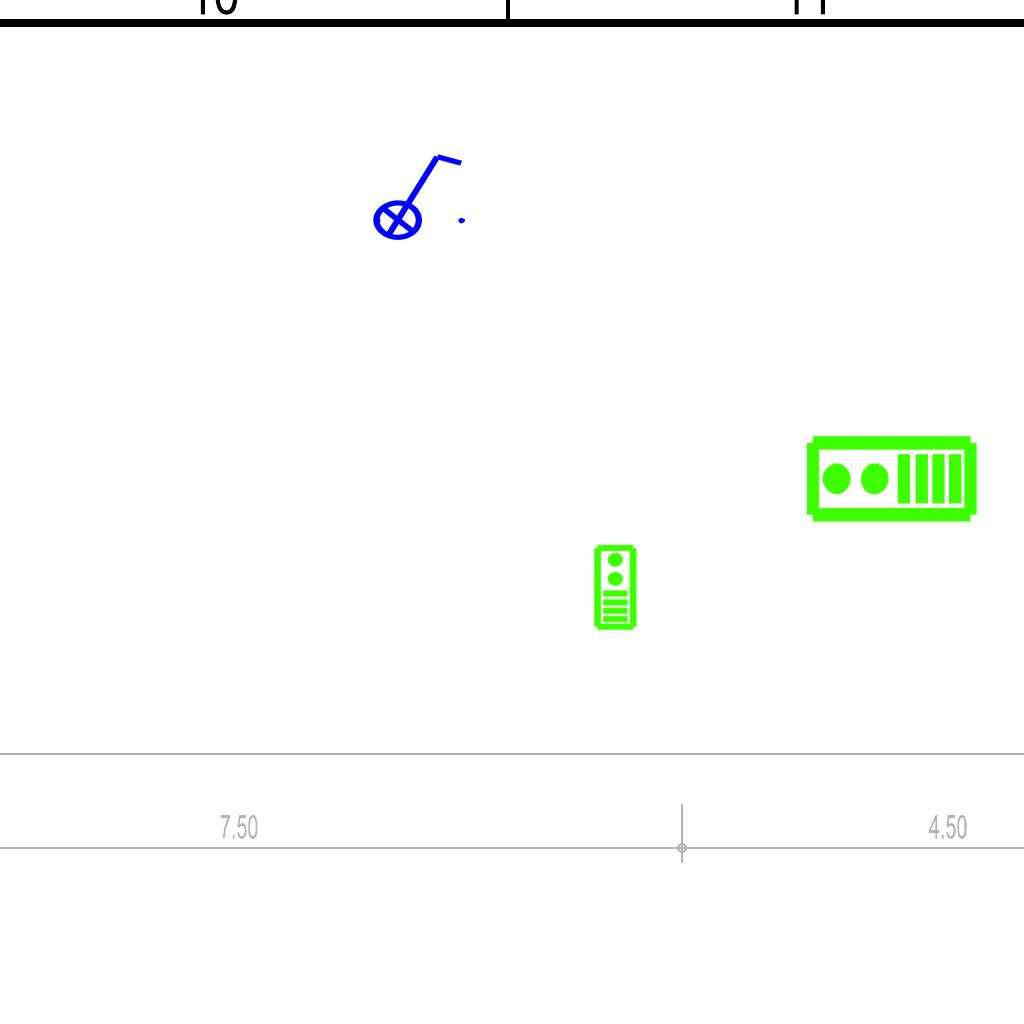Ausschalter_beleuchtet: (359, 146, 471, 242)
Gegensprechanlage_mit_Video: (803, 433, 979, 528), (591, 543, 638, 631)
